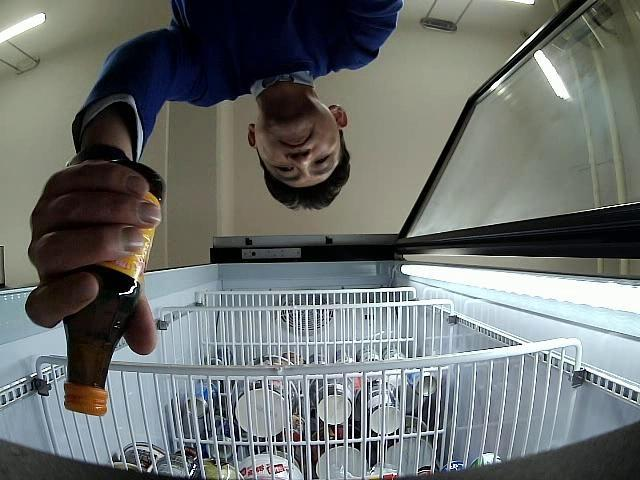17_vita500: (63, 160, 163, 416)
